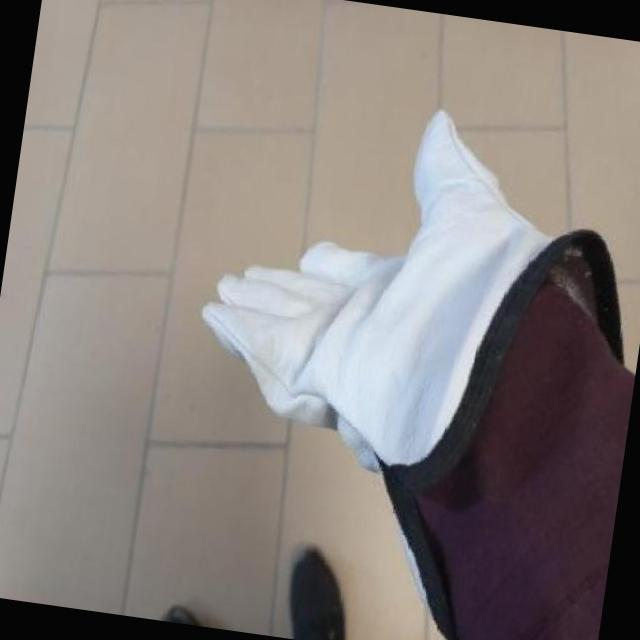boots: (282, 542, 364, 640)
gloves: (183, 76, 640, 495)
